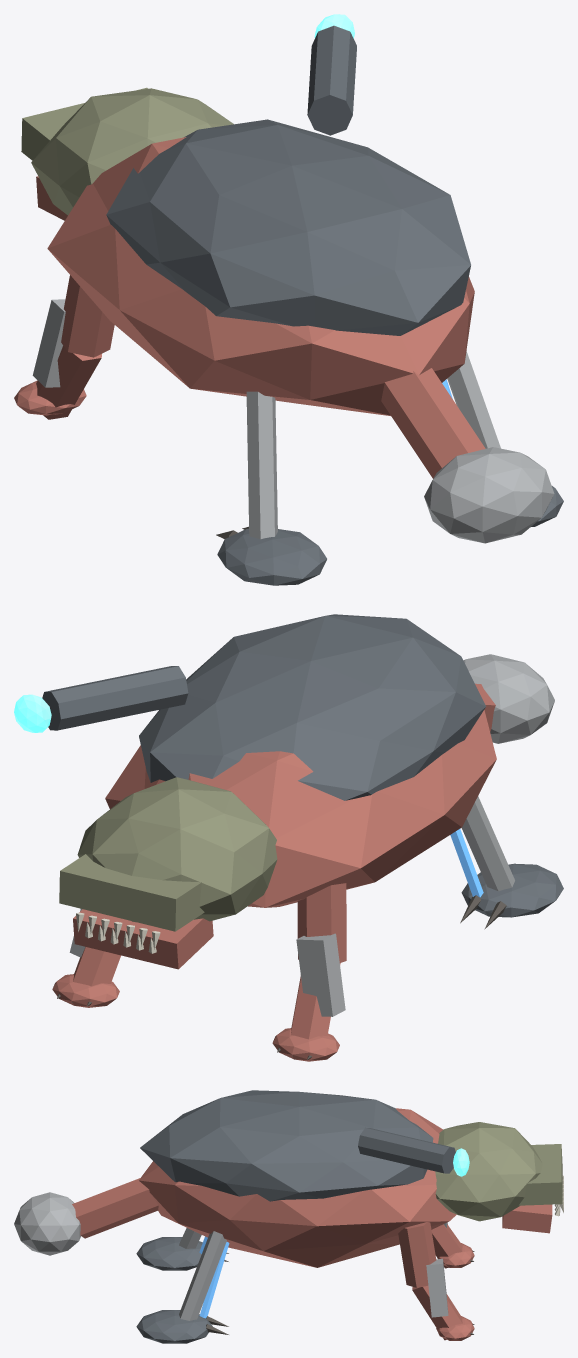
The model's file is boss_05_apex_chimera.glb.
The picture shows the model from 3 angles, top to bottom: view 1: azimuth 30°, elevation 25°; view 2: azimuth 150°, elevation 25°; view 3: azimuth 270°, elevation 25°; orthographic projection. The views are drawn at different scales.
Visible parts, largest first — view 1: apex_chimera_armored_back_mass, apex_chimera_unstable_organic_torso, apex_chimera_predator_head, apex_chimera_tail_club_weapon, apex_chimera_reinforced_tail, apex_chimera_rear_claw_foot_-1, apex_chimera_evolved_shoulder_plasma_cannon, apex_chimera_hydraulic_rear_leg_piston_-1, apex_chimera_front_leg_-1_upper_leg, apex_chimera_hydraulic_rear_leg_piston_1, apex_chimera_front_leg_-1_lower_leg, apex_chimera_front_leg_armor_plate_-1 (+2 smaller); view 2: apex_chimera_armored_back_mass, apex_chimera_unstable_organic_torso, apex_chimera_predator_head, apex_chimera_split_jaw_upper, apex_chimera_evolved_shoulder_plasma_cannon, apex_chimera_tail_club_weapon, apex_chimera_split_jaw_lower, apex_chimera_rear_claw_foot_-1, apex_chimera_front_leg_armor_plate_-1, apex_chimera_front_leg_-1_upper_leg, apex_chimera_hydraulic_rear_leg_piston_-1, apex_chimera_front_leg_-1_paw (+5 smaller); view 3: apex_chimera_armored_back_mass, apex_chimera_unstable_organic_torso, apex_chimera_predator_head, apex_chimera_tail_club_weapon, apex_chimera_reinforced_tail, apex_chimera_evolved_shoulder_plasma_cannon, apex_chimera_split_jaw_upper, apex_chimera_front_leg_1_upper_leg, apex_chimera_rear_claw_foot_1, apex_chimera_hydraulic_rear_leg_piston_1, apex_chimera_rear_claw_foot_-1, apex_chimera_split_jaw_lower (+8 smaller).
Part boxes in pixels (box(x1,y1,x2,y2)): apex_chimera_armored_back_mass: box(106, 119, 470, 335); apex_chimera_unstable_organic_torso: box(47, 137, 474, 415); apex_chimera_predator_head: box(31, 88, 233, 215); apex_chimera_tail_club_weapon: box(424, 447, 554, 543); apex_chimera_reinforced_tail: box(381, 368, 485, 478); apex_chimera_rear_claw_foot_-1: box(217, 528, 326, 585); apex_chimera_evolved_shoulder_plasma_cannon: box(307, 25, 356, 135); apex_chimera_hydraulic_rear_leg_piston_-1: box(246, 391, 277, 539); apex_chimera_front_leg_-1_upper_leg: box(61, 275, 114, 357); apex_chimera_hydraulic_rear_leg_piston_1: box(447, 351, 500, 448); apex_chimera_front_leg_-1_lower_leg: box(36, 345, 101, 419); apex_chimera_front_leg_armor_plate_-1: box(32, 299, 65, 387); apex_chimera_armored_back_mass: box(139, 614, 485, 800); apex_chimera_unstable_organic_torso: box(105, 689, 496, 907); apex_chimera_predator_head: box(77, 777, 277, 922); apex_chimera_split_jaw_upper: box(59, 854, 204, 931); apex_chimera_evolved_shoulder_plasma_cannon: box(42, 666, 188, 730); apex_chimera_tail_club_weapon: box(463, 654, 554, 743); apex_chimera_split_jaw_lower: box(73, 909, 213, 969); apex_chimera_rear_claw_foot_-1: box(461, 863, 563, 917); apex_chimera_front_leg_armor_plate_-1: box(296, 933, 345, 1016); apex_chimera_front_leg_-1_upper_leg: box(297, 883, 346, 962); apex_chimera_hydraulic_rear_leg_piston_-1: box(461, 796, 514, 891); apex_chimera_front_leg_-1_paw: box(272, 1028, 339, 1061); apex_chimera_armored_back_mass: box(140, 1090, 433, 1201); apex_chimera_unstable_organic_torso: box(139, 1108, 456, 1267); apex_chimera_predator_head: box(435, 1122, 542, 1221); apex_chimera_tail_club_weapon: box(14, 1192, 80, 1255); apex_chimera_reinforced_tail: box(72, 1177, 158, 1238); apex_chimera_evolved_shoulder_plasma_cannon: box(358, 1127, 455, 1173); apex_chimera_split_jaw_upper: box(519, 1144, 562, 1205); apex_chimera_front_leg_1_upper_leg: box(398, 1222, 436, 1287); apex_chimera_rear_claw_foot_1: box(136, 1310, 212, 1343); apex_chimera_hydraulic_rear_leg_piston_1: box(179, 1231, 226, 1320); apex_chimera_rear_claw_foot_-1: box(136, 1237, 202, 1270); apex_chimera_split_jaw_lower: box(502, 1204, 552, 1233).
Size of the model in its own units: 2.16 by 1.89 by 4.59.
